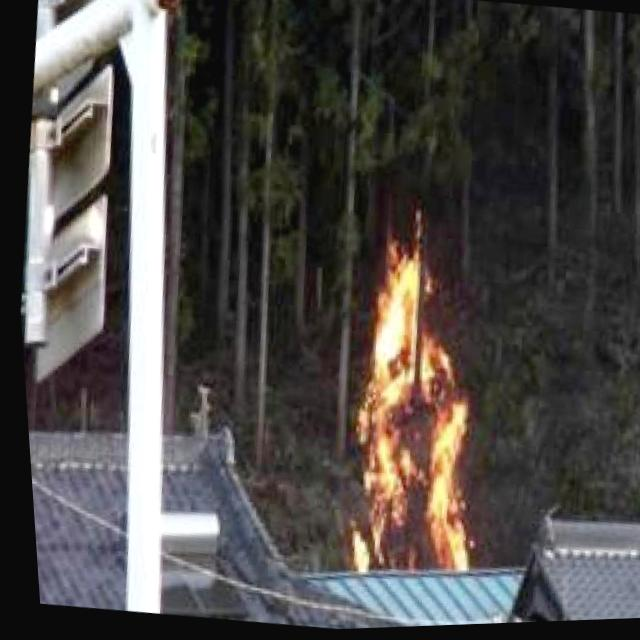Fire: (305, 237, 497, 587)
